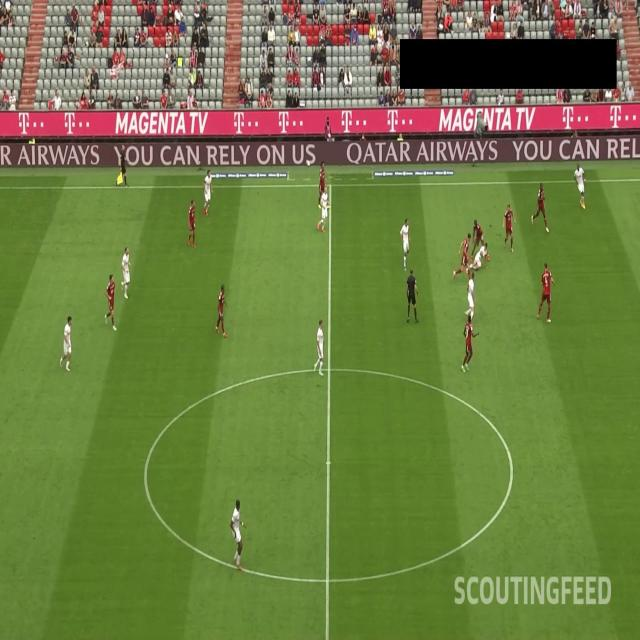ball: (476, 257, 484, 270)
player: (228, 496, 247, 572), (460, 311, 480, 375), (534, 258, 554, 322), (450, 224, 472, 278), (468, 214, 492, 261), (530, 178, 550, 232), (59, 308, 75, 375), (103, 271, 120, 333), (313, 313, 327, 378), (316, 159, 332, 213), (214, 282, 229, 339), (572, 157, 588, 210), (501, 201, 516, 254), (465, 242, 488, 274), (463, 271, 477, 321), (399, 216, 411, 271), (186, 194, 198, 248), (120, 245, 132, 298), (316, 183, 327, 234), (202, 168, 213, 218)
referee: (404, 268, 420, 324), (118, 143, 130, 191)
